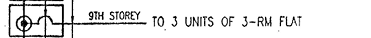Single Phase Tap-Off Unit: (6, 2, 68, 38)
